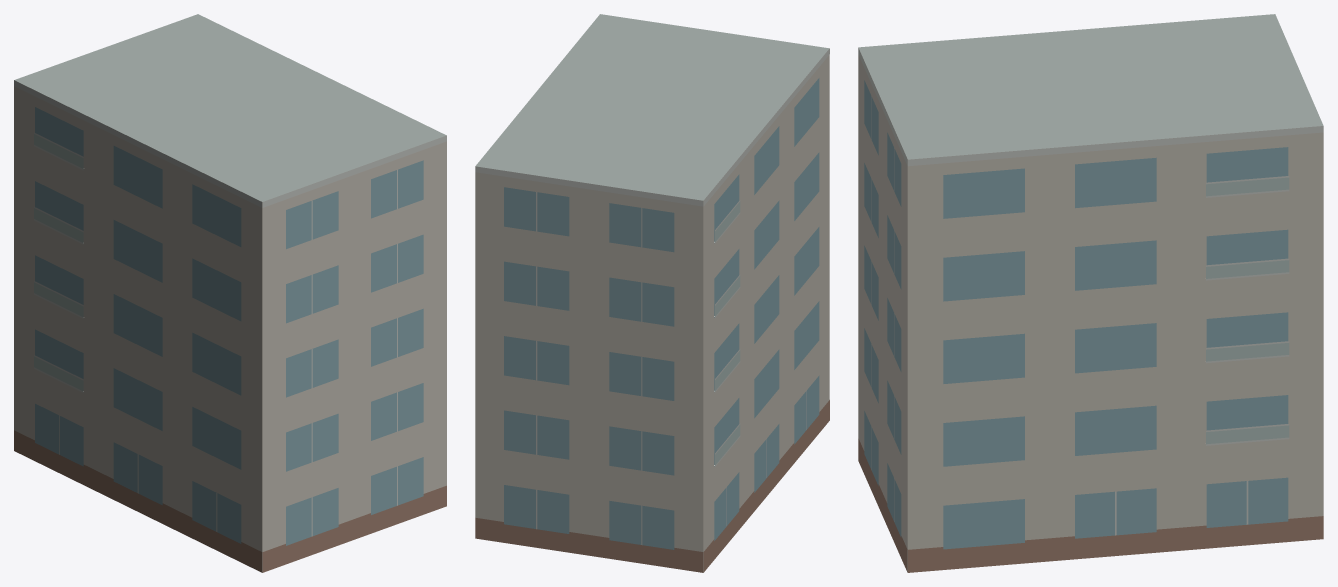
Rendered from survey-upis-32704255.glb.
The picture shows the model from 3 angles, left to right: view 1: azimuth 30°, elevation 25°; view 2: azimuth 150°, elevation 25°; view 3: azimuth 270°, elevation 25°; orthographic projection. The views are drawn at different scales.
Visible parts, largest first — view 1: survey-upis-32704255.tmp; view 2: survey-upis-32704255.tmp; view 3: survey-upis-32704255.tmp.
Boxes of the visible parts, x1,y1,x2,y2 form: survey-upis-32704255.tmp: [14, 14, 446, 572]; survey-upis-32704255.tmp: [475, 14, 829, 572]; survey-upis-32704255.tmp: [858, 14, 1323, 572].
Size of the model in its own units: 11.54 by 15.25 by 15.58.
